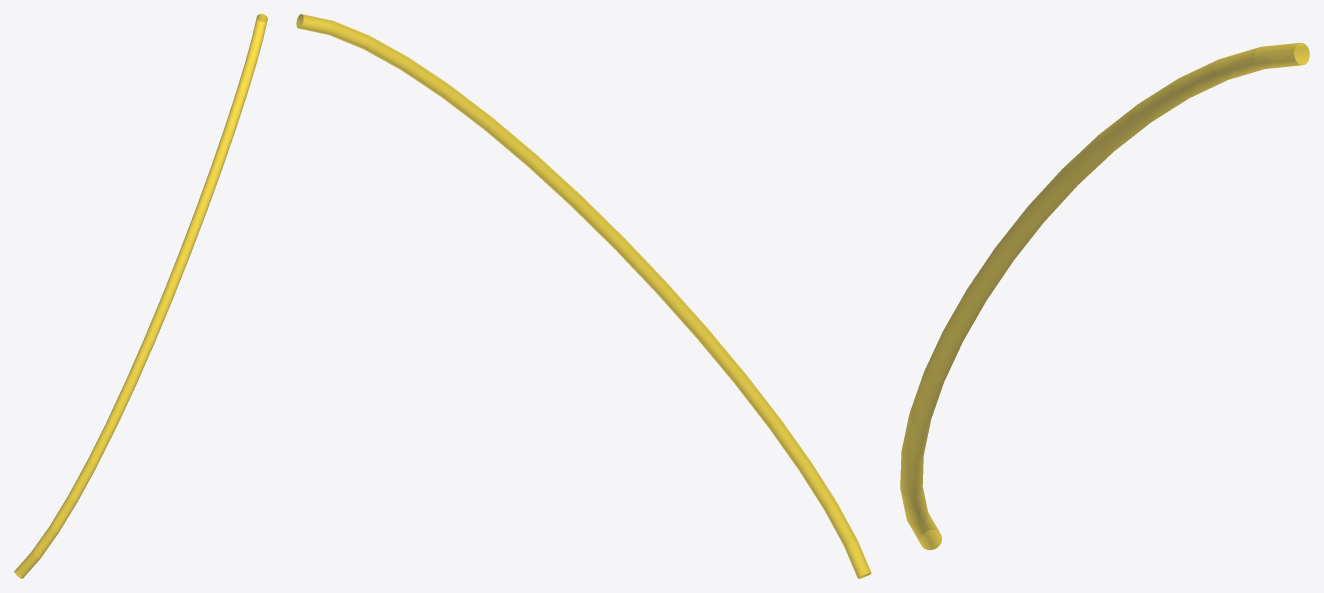
File: Event_402970704_track_40.fbx
3 renders of one model, left to right at view 1: azimuth 30°, elevation 25°; view 2: azimuth 150°, elevation 25°; view 3: azimuth 270°, elevation 25°, orthographic. The views are drawn at different scales.
Visible parts, largest first — view 1: Model; view 2: Model; view 3: Model.
Part boxes in pixels (x1,y1,x2,y2): Model: (14,14,267,578); Model: (296,14,871,578); Model: (900,42,1309,550).
Bounding box in the file's own units: 1.41 × 1.62 × 0.7242.
